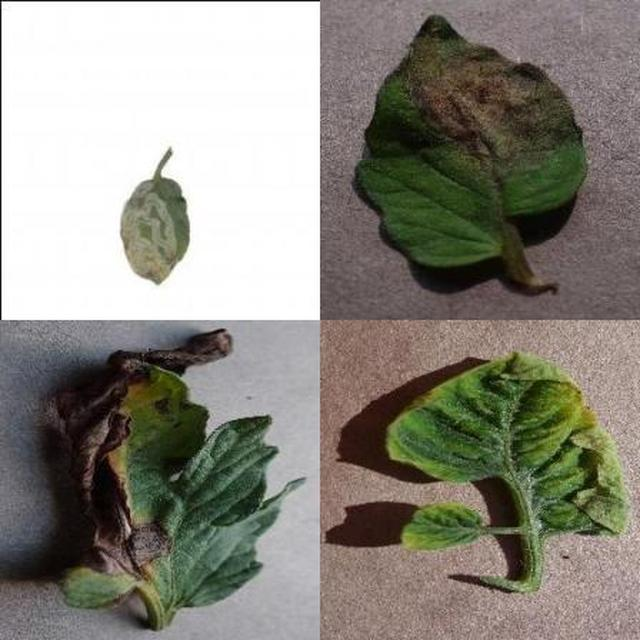Leaf Miner: (102, 72, 640, 640)
